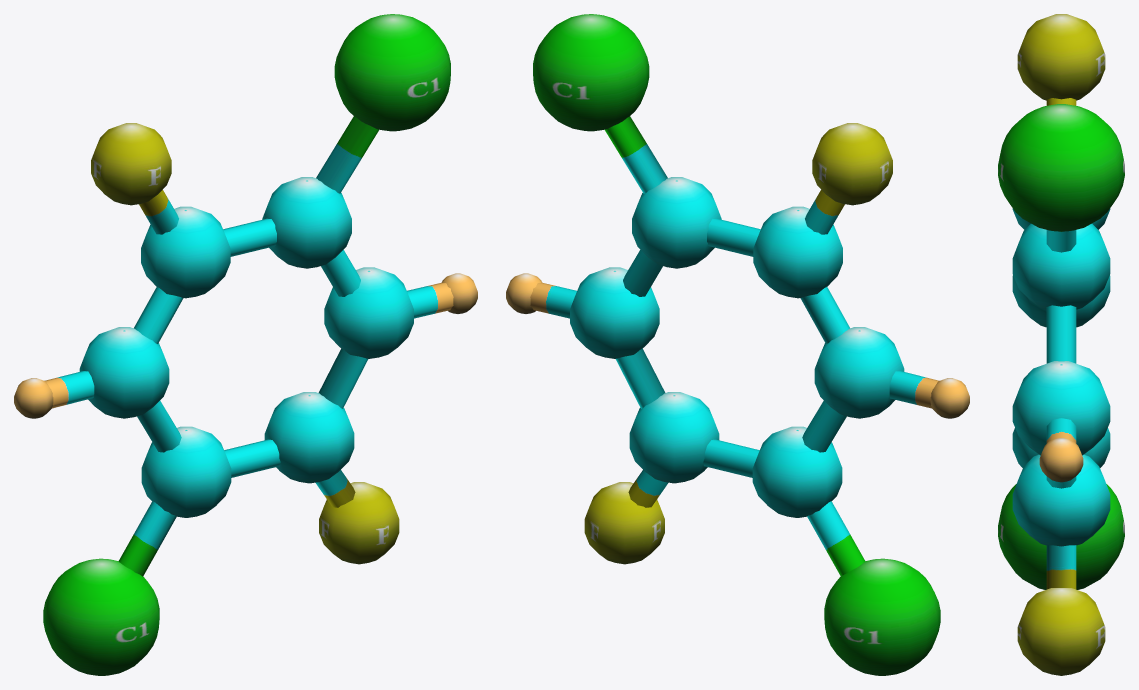
File: 1_4_Difluoro2_5_dichloro_benzene.dae
3 renders of one model, left to right at view 1: azimuth 30°, elevation 25°; view 2: azimuth 150°, elevation 25°; view 3: azimuth 270°, elevation 25°, orthographic. The views are drawn at different scales.
Visible parts, largest first — view 1: polySurface77; view 2: polySurface77; view 3: polySurface77.
Boxes of the visible parts, x1,y1,x2,y2 form: polySurface77: [14, 14, 477, 675]; polySurface77: [506, 14, 969, 675]; polySurface77: [998, 14, 1124, 675].
Bounding box in the file's own units: 4.16 × 5.04 × 0.9179.
Materials: 1 (1 with a texture image).
